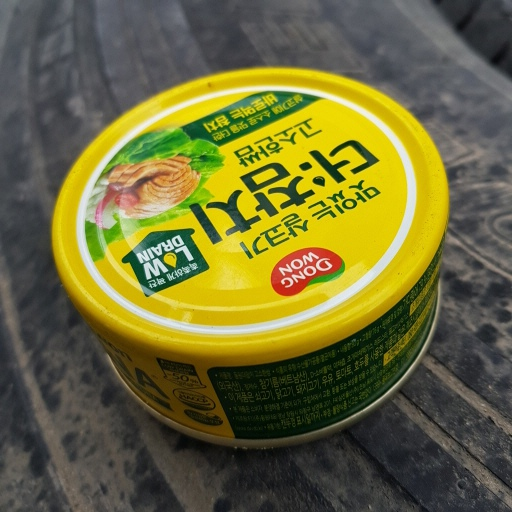Metal_1: (50, 66, 451, 444)
